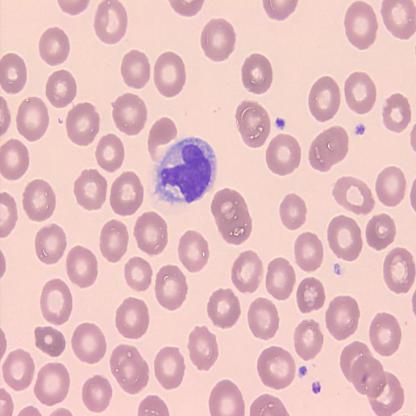Monocyte: (148, 135, 218, 207)
